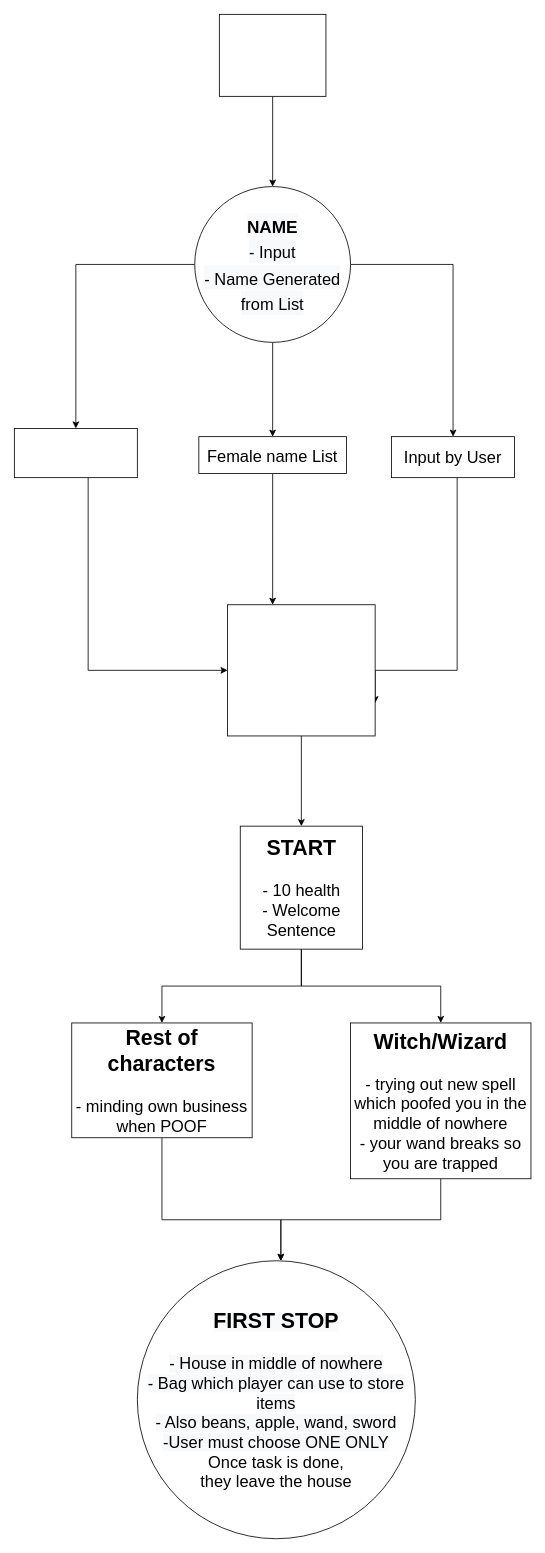
This 545x1553 diagram has some shape labels left out. The centre of each missing label's shape, as x and y in pixels:
Male name list: point 75,453
RANK - Lord -Lady -Knight -Wizard Apprentice: point 301,670
START: point 272,55
